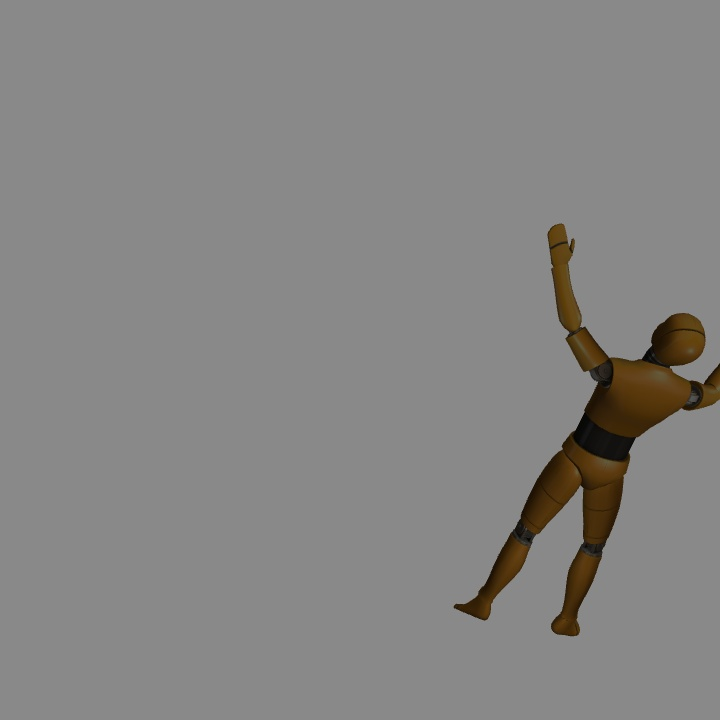victim: (454, 223, 715, 636)
